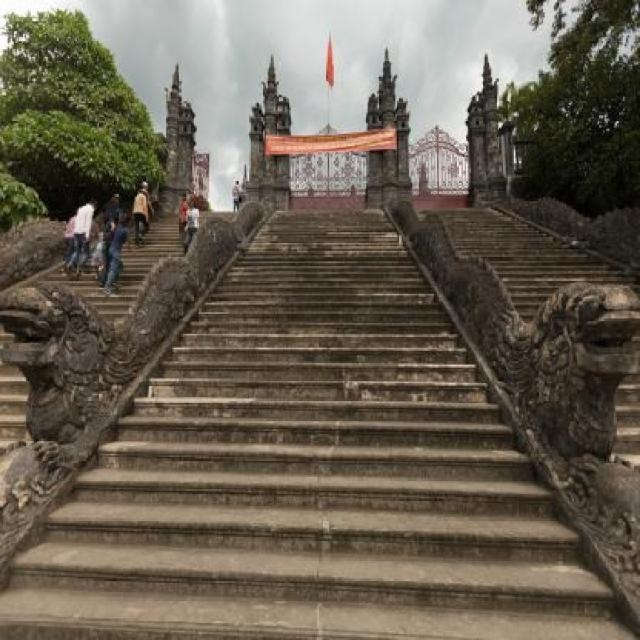stair: (0, 206, 640, 640)
